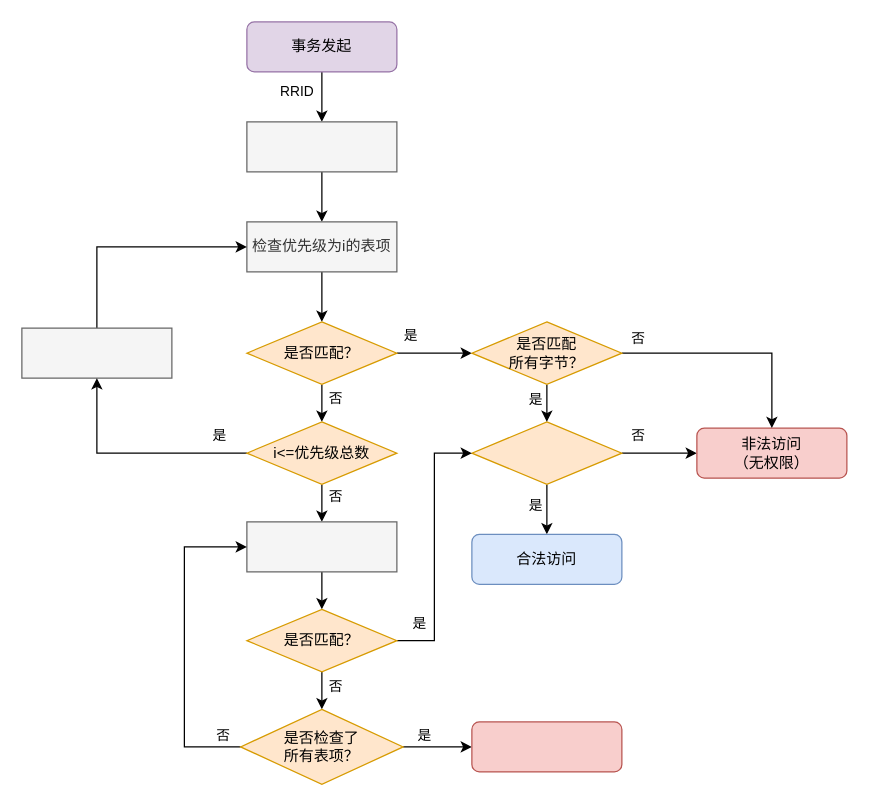
Image size: 869x806. Some labels were removed from this diagram. The shapes that lost their labels are listed below. From the top down, each one's centre as x and y in pixels, then its label:
At point 321,146: "i=0".
At point 96,352: "i=i+1".
At point 546,452: "是否有权限？".
At point 321,546: "检查下一个 非优先级表项".
At point 546,746: "非法访问 （未命中）".
